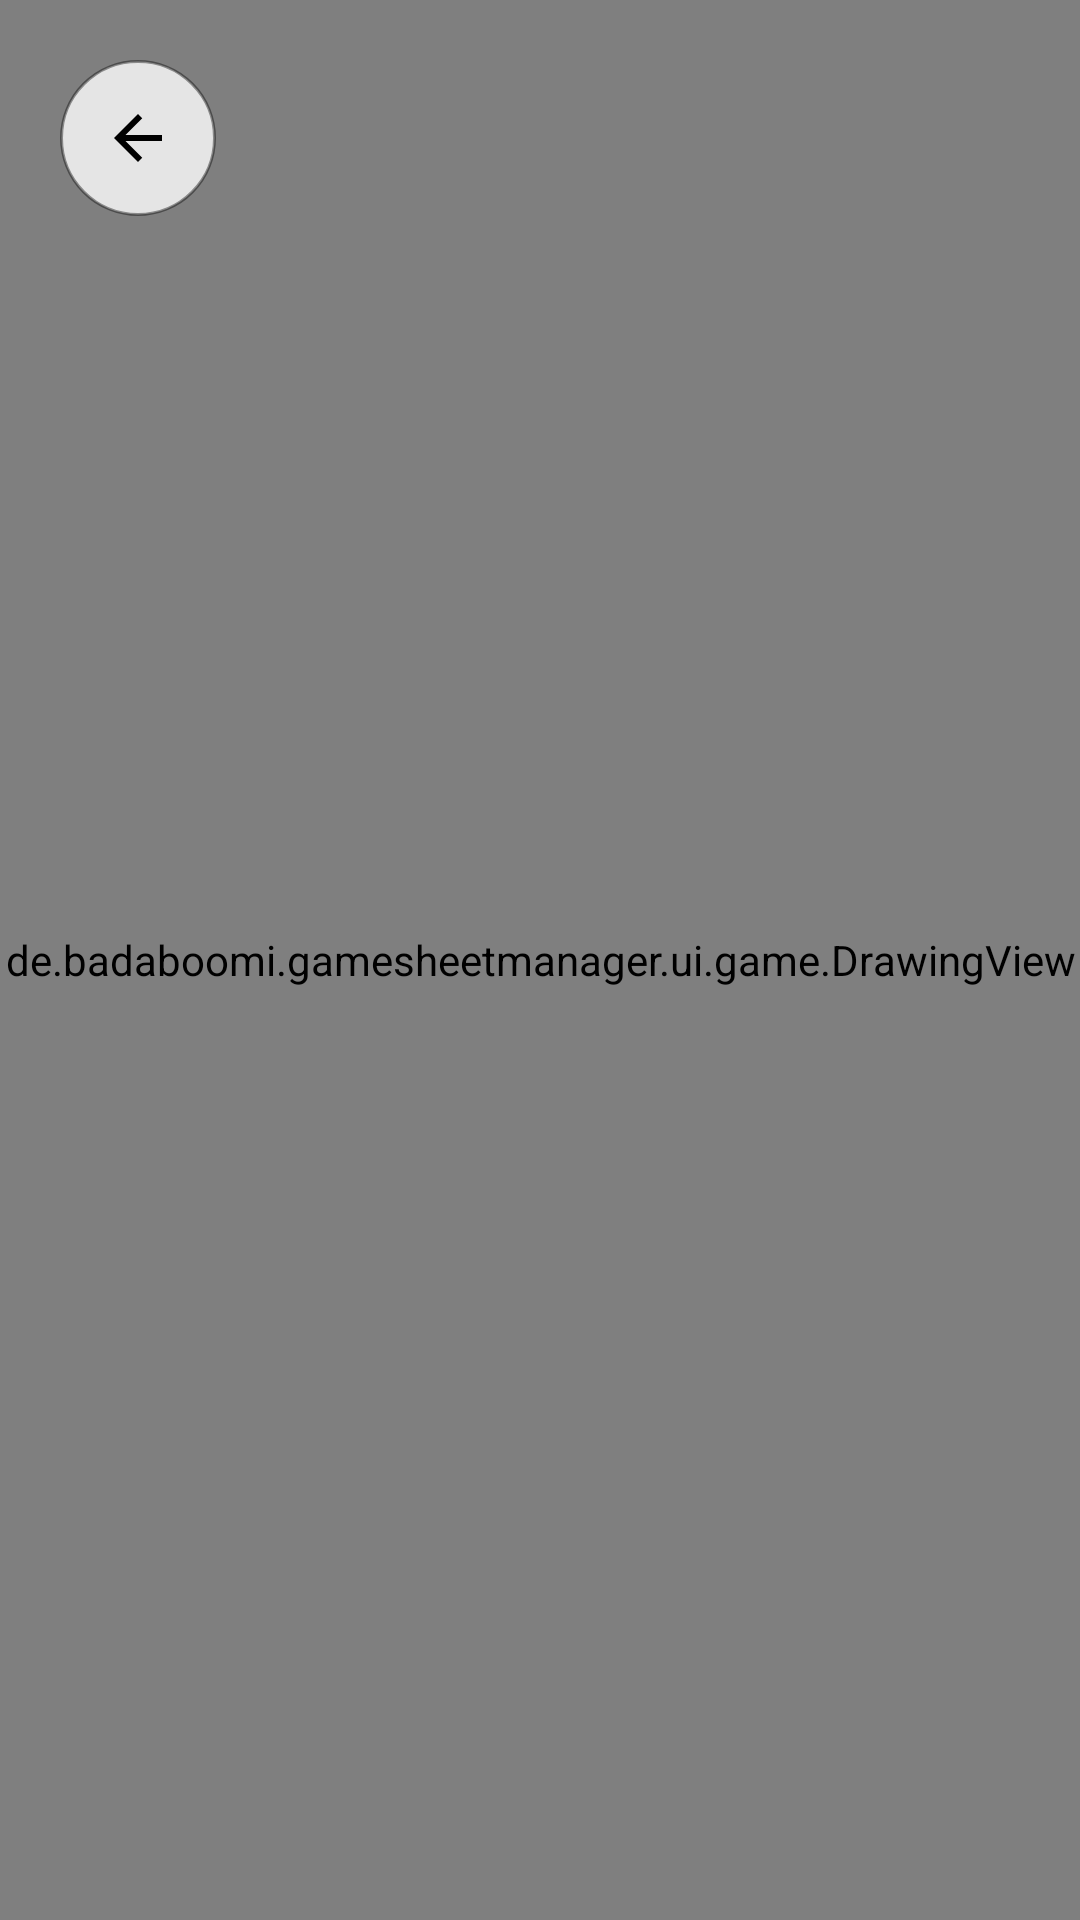

Where icons sit on this 1080px x 1920px app screen, as BBox(x1, y1, x2, y2):
Zurück: BBox(60, 60, 216, 216)
